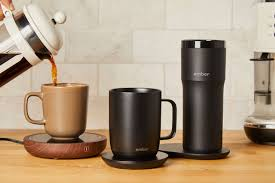mug: (103, 82, 183, 164), (19, 80, 92, 144)
